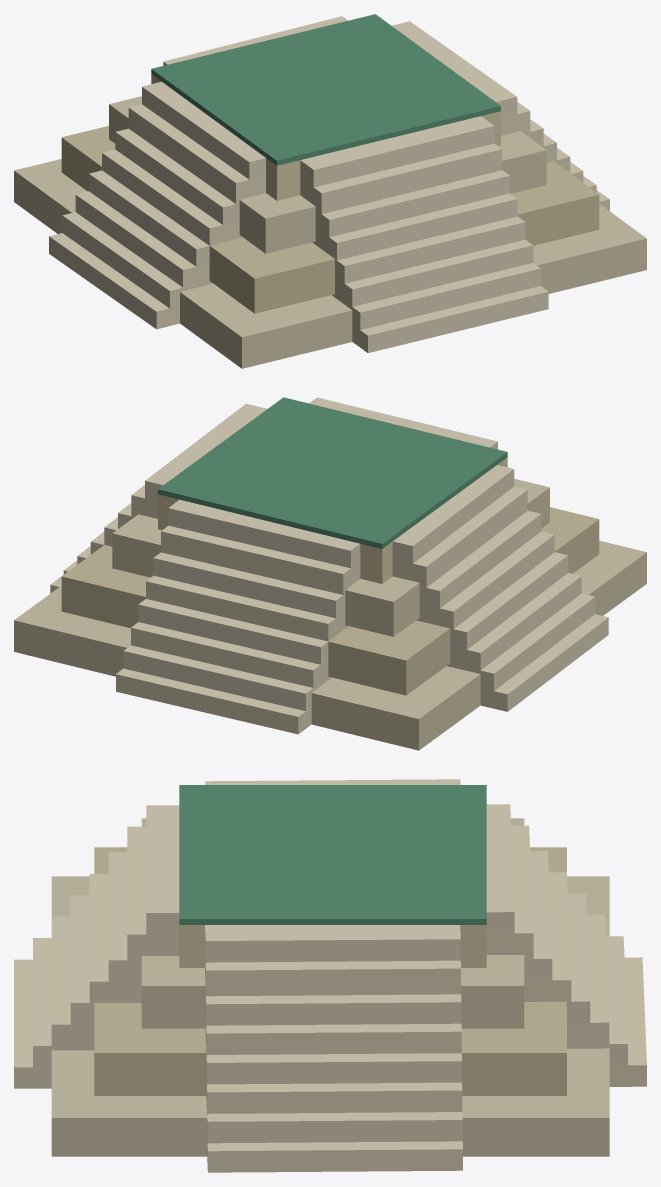
File: GranPlaza.glb
3 views of the same model, one above another, from view 1: azimuth 30°, elevation 25°; view 2: azimuth 150°, elevation 25°; view 3: azimuth 270°, elevation 25° (orthographic). The views are drawn at different scales.
Visible parts, largest first — view 1: Mesh_Mesh_head_geo.001_lambert2SG.001; view 2: Mesh_Mesh_head_geo.001_lambert2SG.001; view 3: Mesh_Mesh_head_geo.001_lambert2SG.001.
Boxes of the visible parts, left/top/right/bottom form: Mesh_Mesh_head_geo.001_lambert2SG.001: left=14, top=14, right=646, bottom=368; Mesh_Mesh_head_geo.001_lambert2SG.001: left=14, top=397, right=646, bottom=750; Mesh_Mesh_head_geo.001_lambert2SG.001: left=14, top=779, right=646, bottom=1172.
Size of the model in its own units: 0.137 by 0.0425 by 0.1339.
